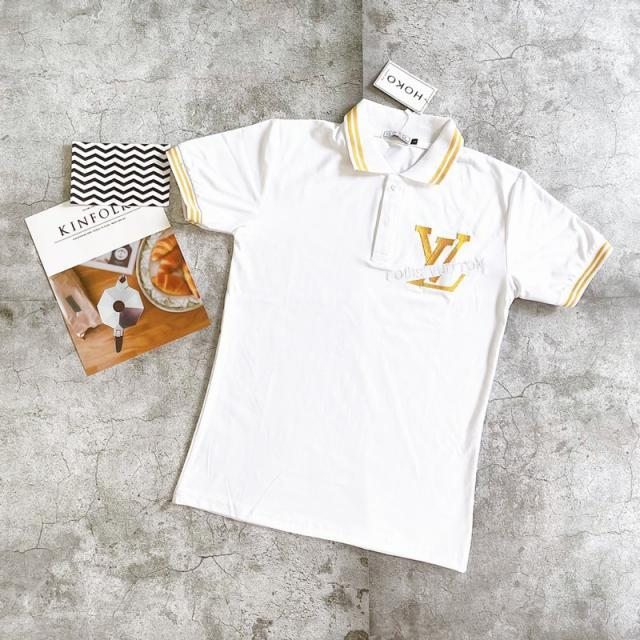Shirt: (159, 95, 612, 571)
